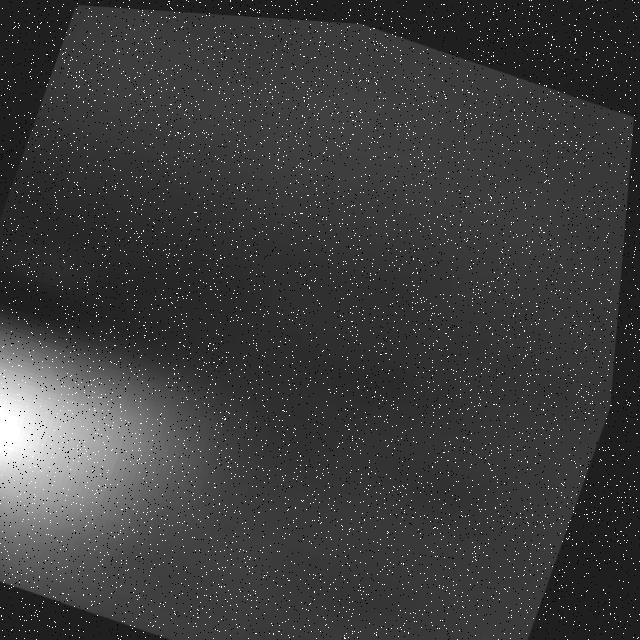person: (1, 299, 291, 635)
